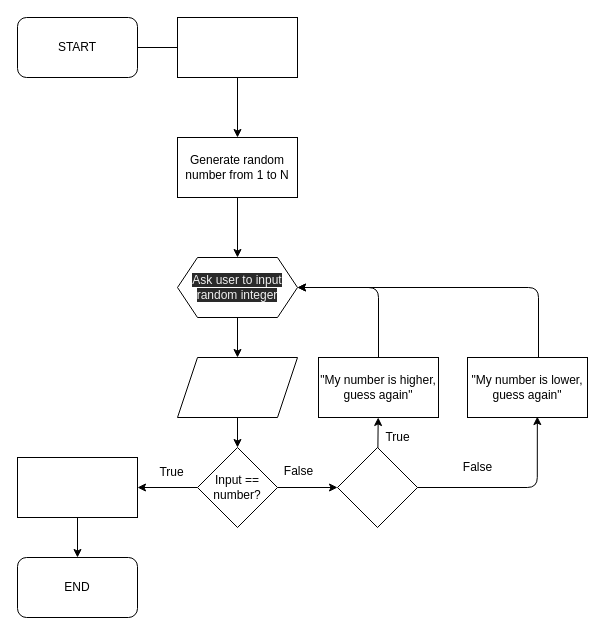
This 605x635 diagram has some shape labels left out. The shapes that lost their labels are listed below. From the top down, each one's centre as x and y in pixels, then its label:
the point at 237,47: Define integer N
the point at 237,387: Integer input
the point at 77,487: Show Success Message
the point at 377,487: Input < number?
